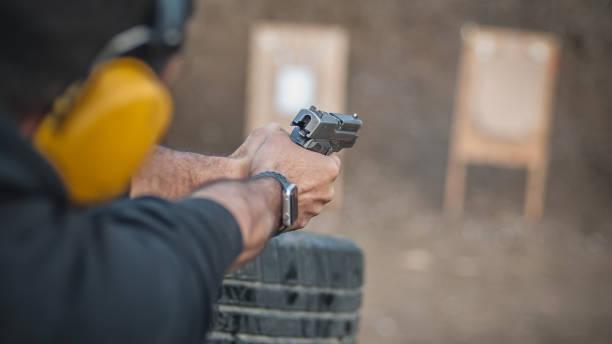weapon: (282, 96, 368, 158)
